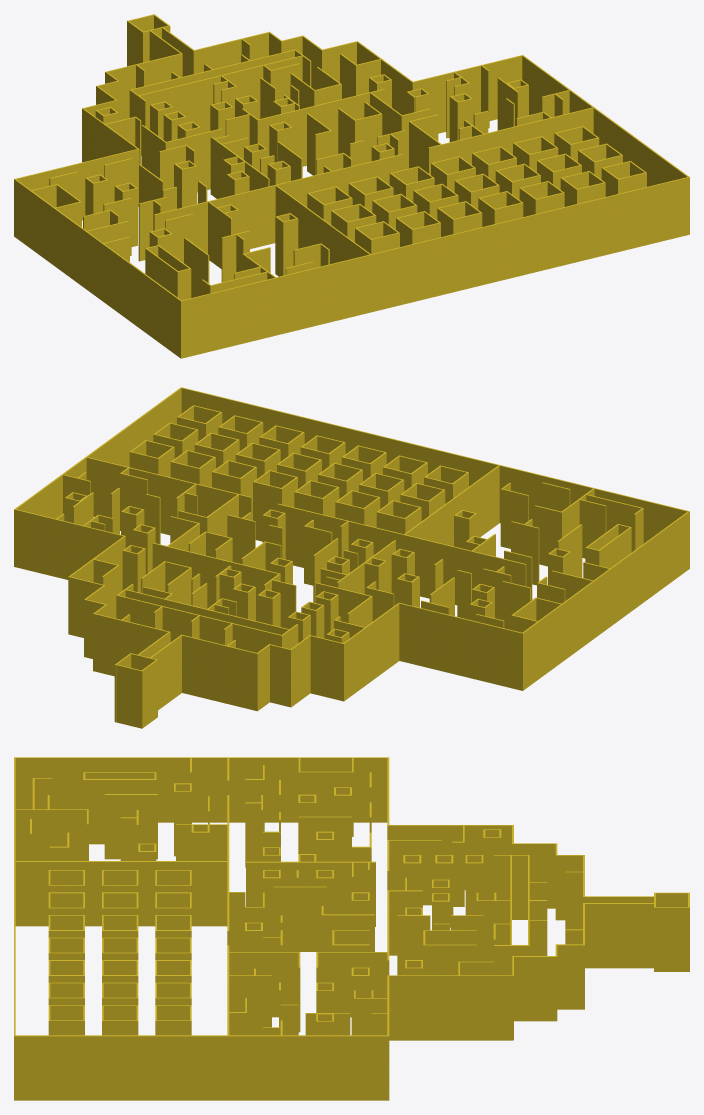
The model's file is LEVEL.glb.
3 renders of one model, top to bottom at view 1: azimuth 30°, elevation 25°; view 2: azimuth 150°, elevation 25°; view 3: azimuth 270°, elevation 25°, orthographic. The views are drawn at different scales.
Parts seen in each view (by area): view 1: Cube.029, Cube.027, Cube.035, Cube.028, Cube.017, Cube.036, Cube.026, Cube.049, Cube.037, Cube.025, Cube.010, Cube.009 (+63 smaller); view 2: Cube.027, Cube.029, Cube.025, Cube.035, Cube.026, Cube.010, Cube.036, Cube.028, Cube.011, Cube.022, Cube.037, Cube.009 (+77 smaller); view 3: Cube.028, Cube.027, Cube.024, Cube.037, Cube.007, Cube.089, Cube.156, Cube.122, Cube.018, Cube.133, Cube.172, Cube.090 (+67 smaller).
Part boxes in pixels (box(x1,y1,x2,y2)): Cube.029: box(180, 176, 689, 358); Cube.027: box(14, 178, 181, 358); Cube.035: box(154, 154, 402, 253); Cube.028: box(522, 55, 689, 186); Cube.017: box(138, 55, 302, 133); Cube.036: box(428, 107, 593, 174); Cube.026: box(411, 55, 522, 133); Cube.049: box(257, 89, 384, 166); Cube.037: box(275, 185, 371, 264); Cube.025: box(14, 149, 139, 220); Cube.010: box(107, 53, 182, 120); Cube.009: box(193, 31, 269, 73); Cube.027: box(522, 511, 689, 690); Cube.029: box(181, 387, 689, 543); Cube.025: box(399, 602, 522, 690); Cube.035: box(277, 503, 526, 605); Cube.026: box(15, 509, 125, 579); Cube.010: box(181, 634, 257, 711); Cube.036: box(86, 457, 251, 535); Cube.028: box(14, 387, 181, 566); Cube.011: box(117, 595, 282, 652); Cube.022: box(343, 603, 399, 700); Cube.037: box(404, 465, 499, 546); Cube.009: box(93, 613, 169, 676); Cube.028: box(14, 1035, 389, 1100); Cube.027: box(14, 757, 387, 822); Cube.024: box(388, 975, 512, 1040); Cube.037: box(14, 861, 228, 926); Cube.007: box(585, 903, 654, 968); Cube.089: box(246, 861, 375, 926); Cube.156: box(15, 809, 88, 860); Cube.122: box(273, 886, 326, 951); Cube.018: box(512, 956, 557, 1021); Cube.133: box(318, 952, 387, 1017); Cube.172: box(104, 794, 157, 859); Cube.090: box(229, 952, 299, 1017).
Bounding box in the file's own units: 37.1 × 4 × 38.01.
Materials: 304 (304 with a texture image).
